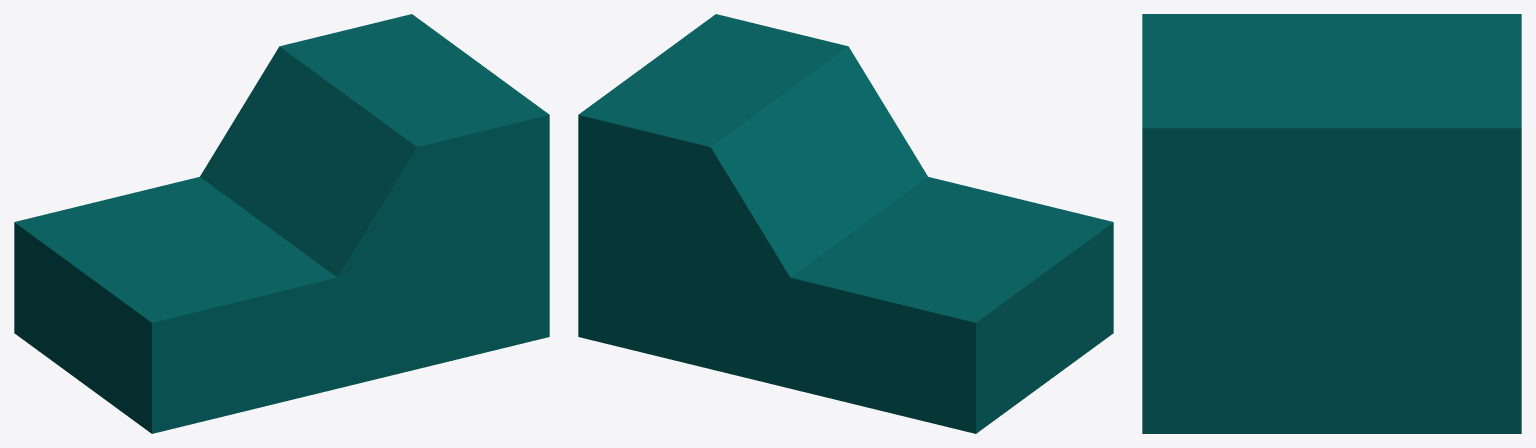
3 views of the same model, side by side, from view 1: azimuth 30°, elevation 25°; view 2: azimuth 150°, elevation 25°; view 3: azimuth 270°, elevation 25° (orthographic). The views are drawn at different scales.
Parts seen in each view (by area): view 1: SketchUp; view 2: SketchUp; view 3: SketchUp.
Boxes of the visible parts, <box> form: SketchUp: <box>14,14,549,433</box>; SketchUp: <box>578,14,1113,433</box>; SketchUp: <box>1142,14,1521,433</box>.
Size of the model in its own units: 1181 by 709 by 630.
